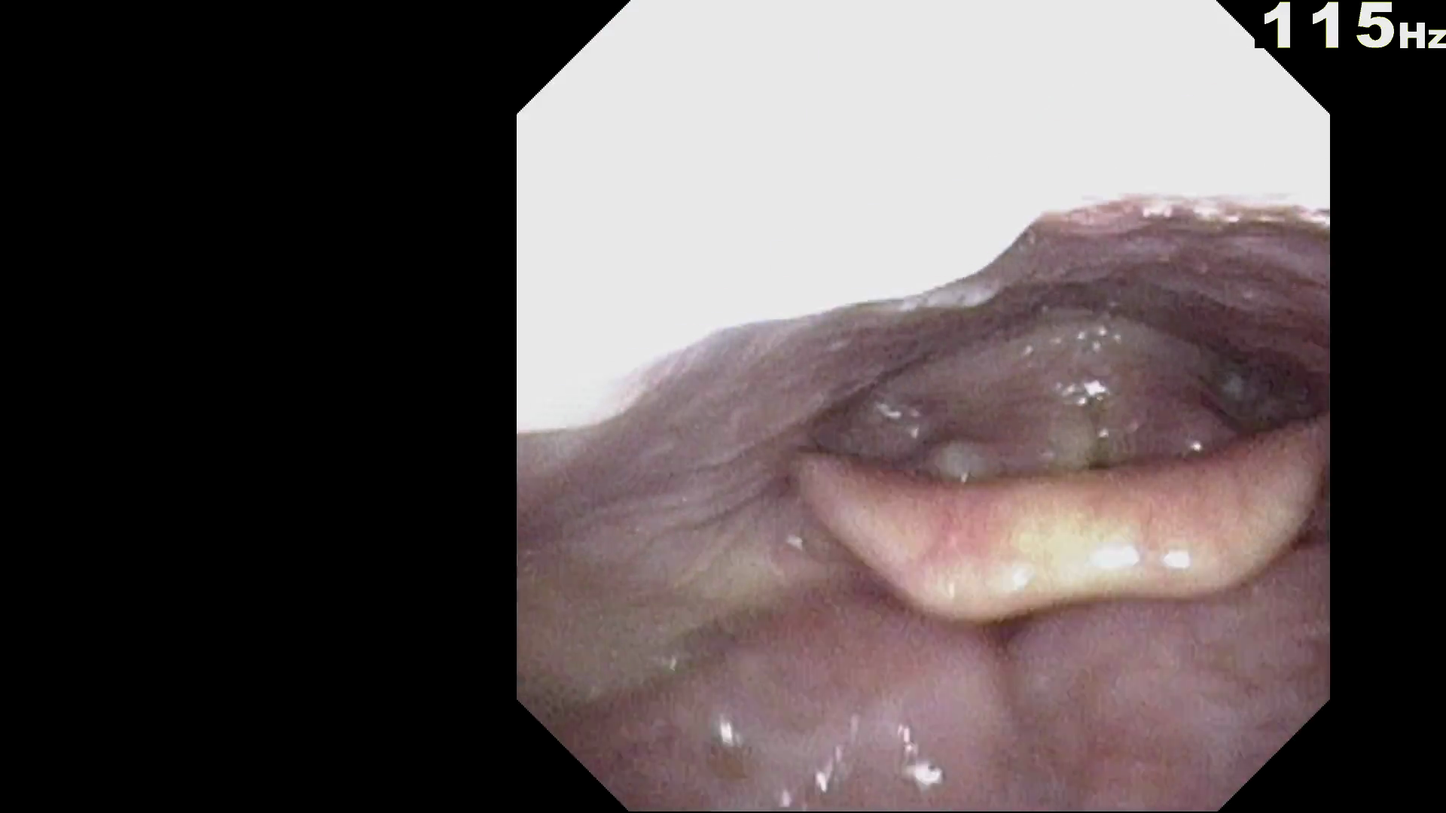epiglottis: (780, 409, 1305, 648)
